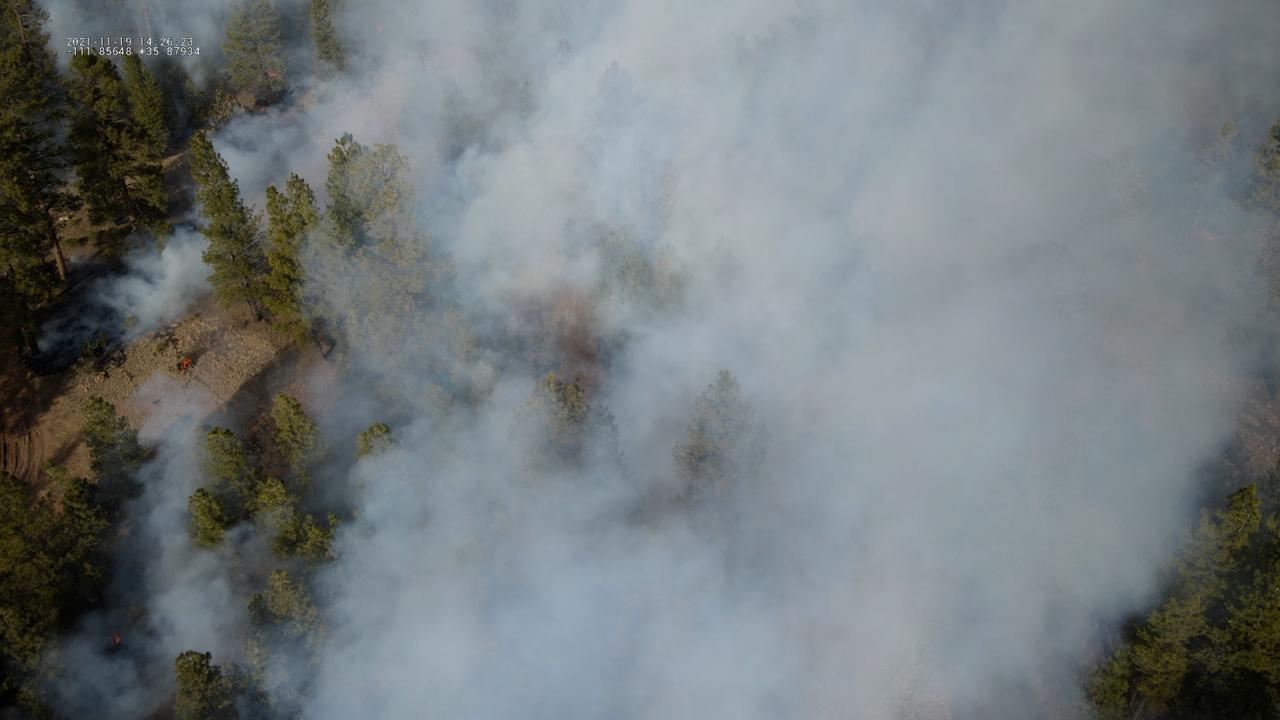fire: (182, 356, 193, 371), (111, 632, 121, 646), (266, 71, 280, 79)
smoke: (0, 0, 1280, 720)
